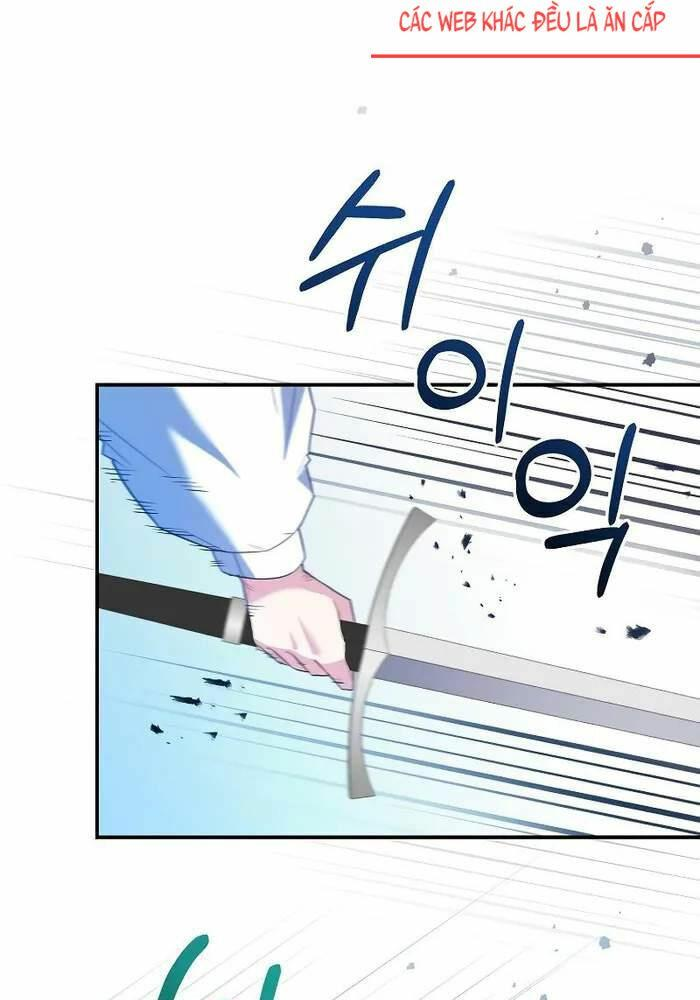quangcao: (368, 0, 700, 58)
